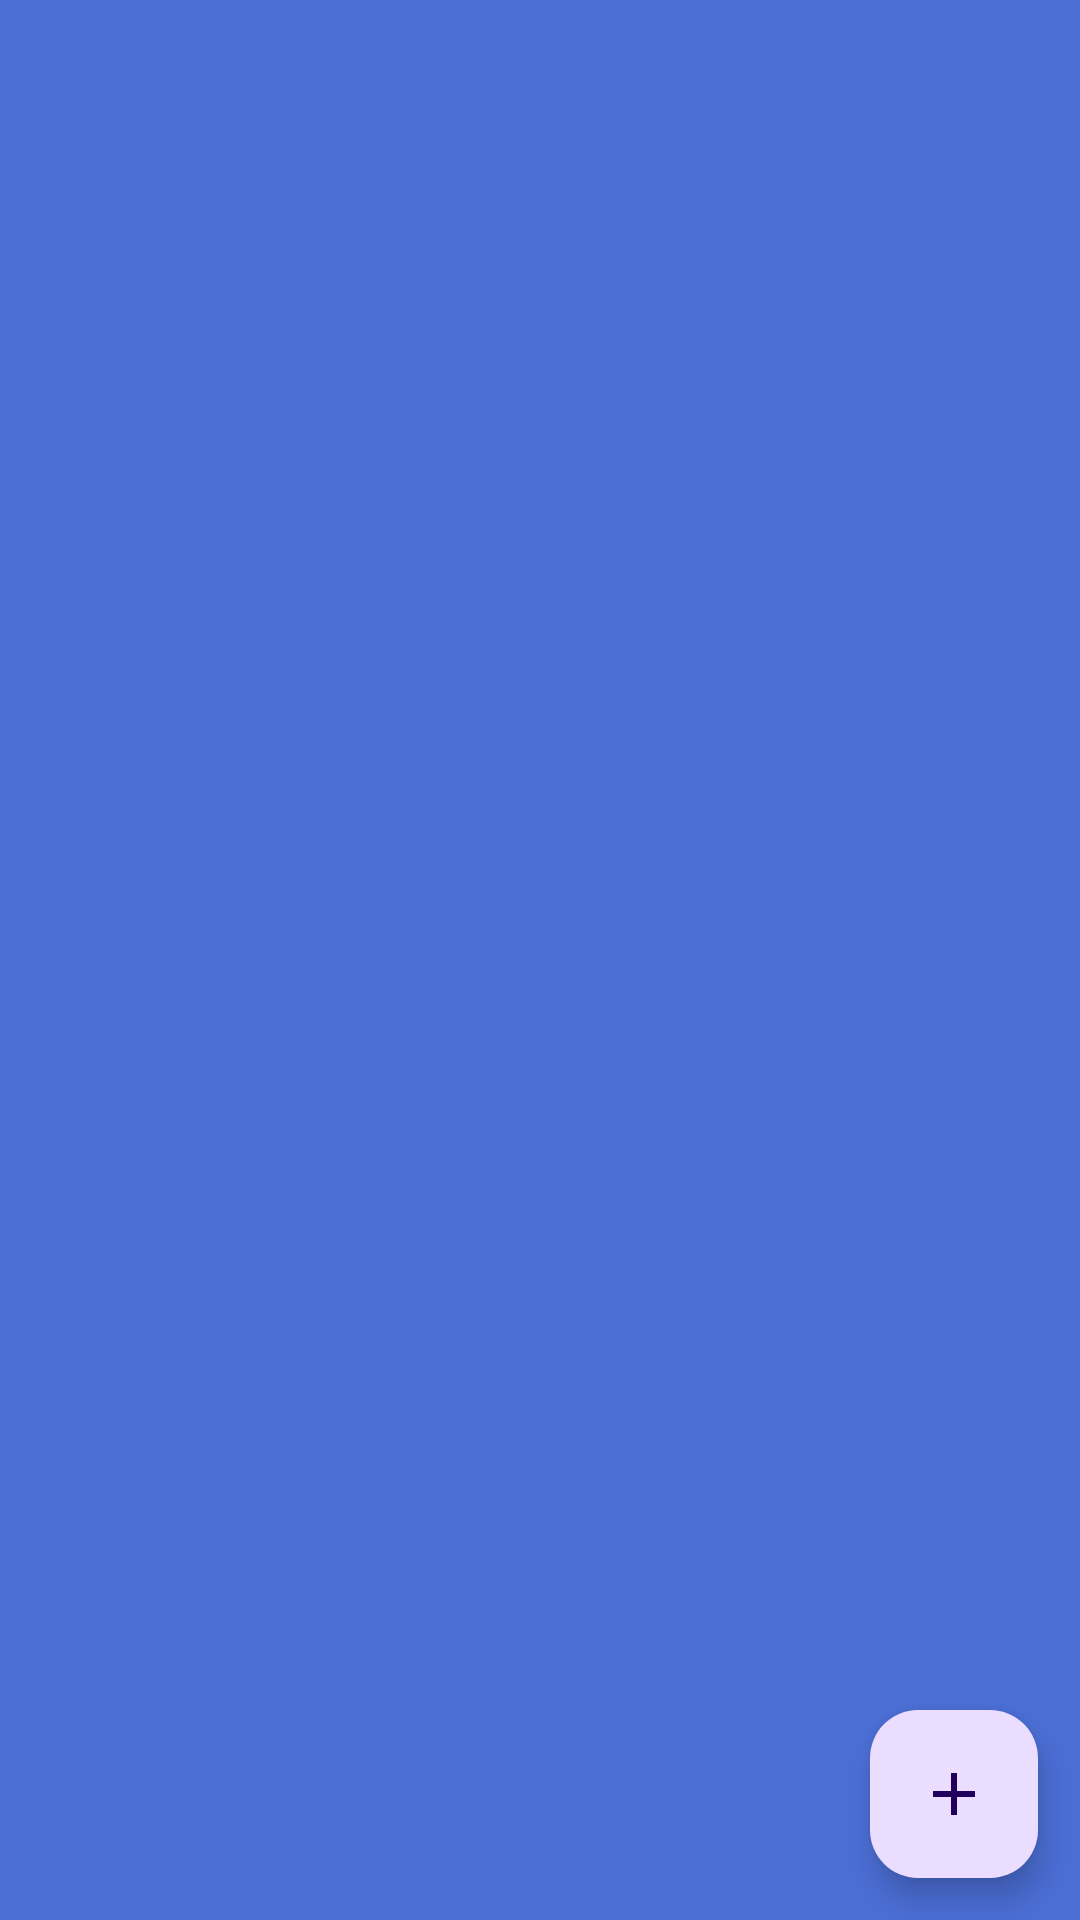

Icons on this 1080×1920 Android screen, each with the point to tap as [x,y]:
add: [954,1794]
